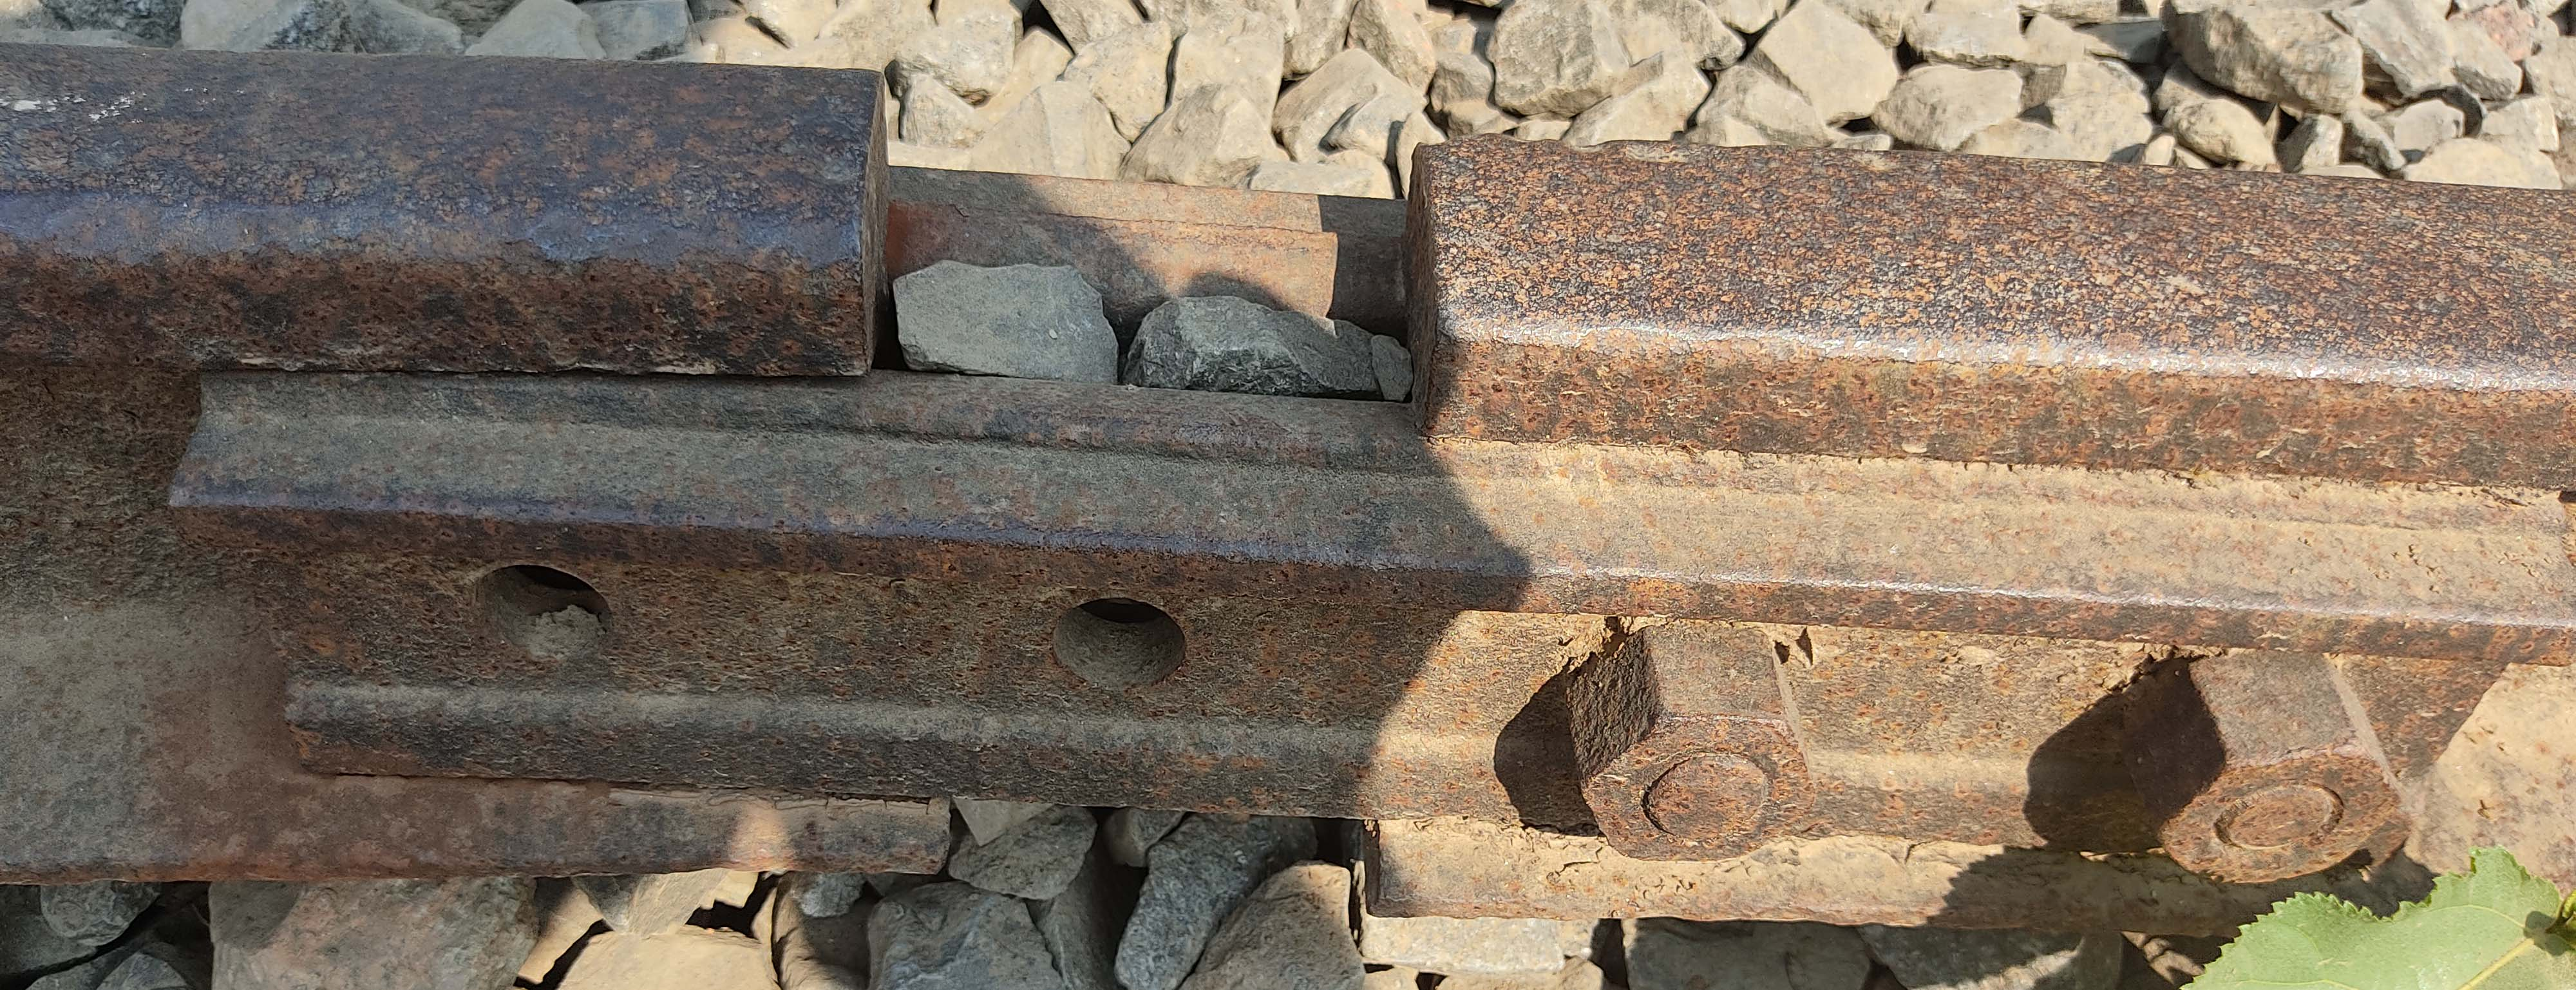error2: (825, 49, 1492, 460)
